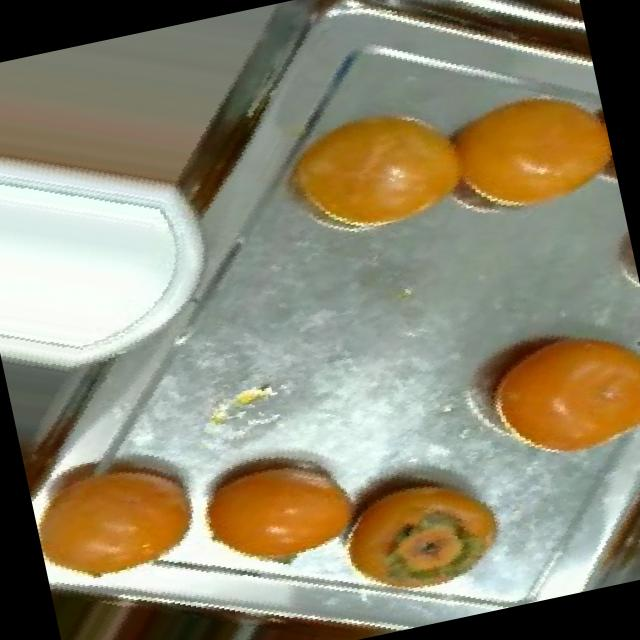Fruit: (233, 67, 485, 270), (294, 428, 536, 630), (392, 48, 624, 250), (166, 410, 390, 596), (442, 289, 640, 499), (21, 412, 235, 592), (589, 195, 640, 317)
